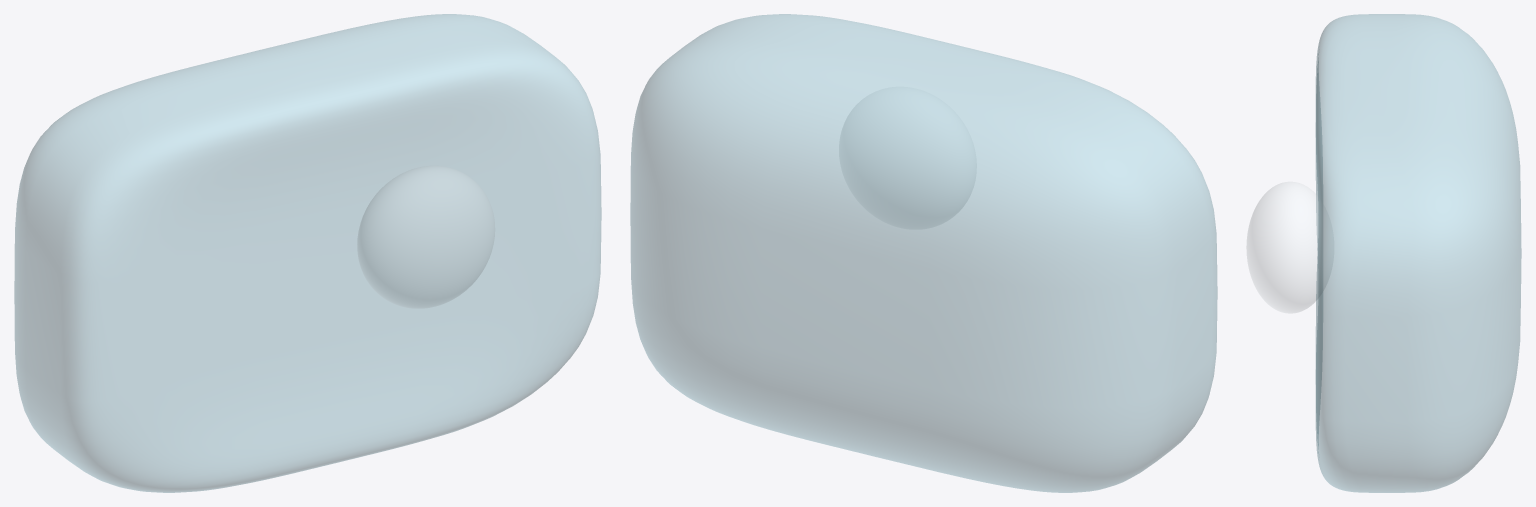
The picture shows the model from 3 angles, left to right: view 1: azimuth 30°, elevation 25°; view 2: azimuth 150°, elevation 25°; view 3: azimuth 270°, elevation 25°; orthographic projection. The views are drawn at different scales.
Parts seen in each view (by area): view 1: gel-body, xy-puck; view 2: gel-body; view 3: gel-body, xy-puck.
Boxes of the visible parts, x1,y1,x2,y2 form: gel-body: [14, 14, 601, 492]; xy-puck: [357, 166, 494, 308]; gel-body: [630, 14, 1217, 492]; gel-body: [1315, 14, 1521, 492]; xy-puck: [1246, 182, 1318, 313].
Size of the model in its own units: 2 by 1.34 by 1.
